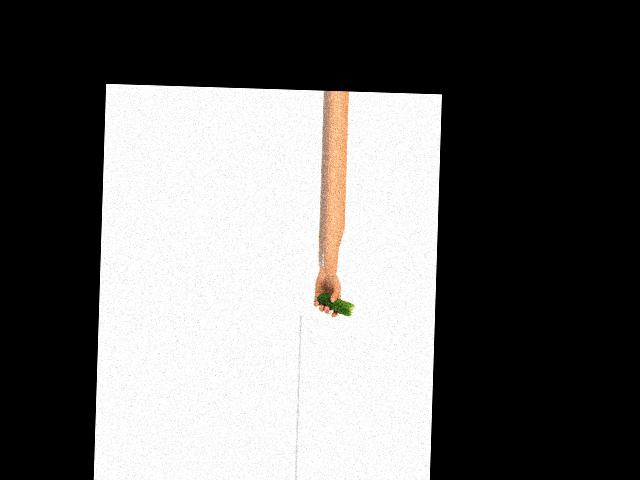cucumber: (316, 292, 354, 315)
